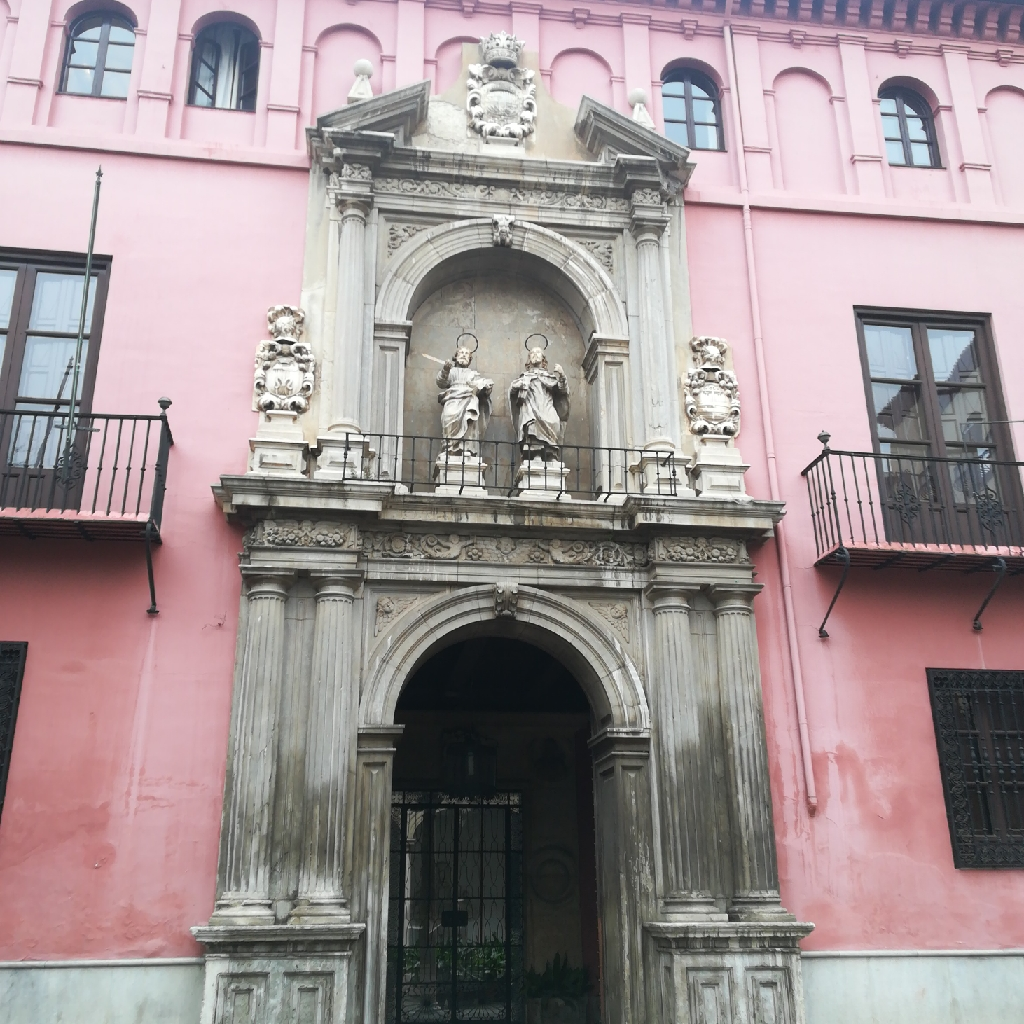arco-medio-punto: (384, 615, 626, 779), (393, 237, 610, 372)
fronton-partido: (305, 84, 693, 177)
